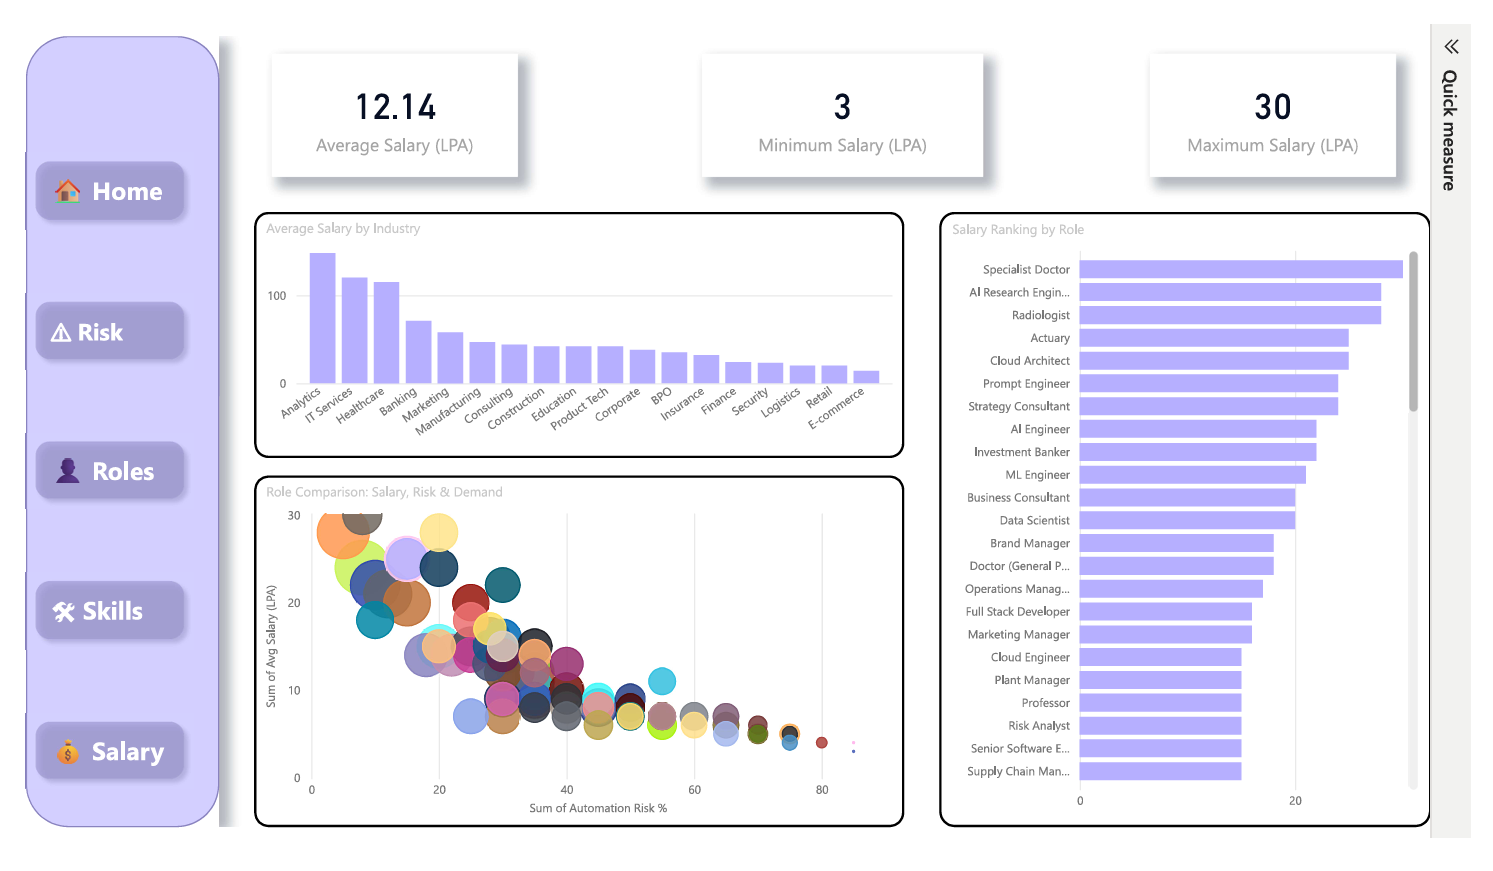

The dashboard page shown, as its layout file describes it:
{"tool":"powerbi","page":{"name":"Salary","canvas":[1280,720],"ordinal":4},"visuals":[{"type":"shape","box":[0,0,176,720],"z":0,"group":"g1"},{"type":"actionButton","box":[0,624,179.8,39.5],"z":0},{"type":"card","fields":{"Values":["Avg(Sheet1.Avg Salary (LPA))"]},"box":[224,16,224,112],"z":1000},{"type":"actionButton","box":[0,232.7,152.7,70.2],"z":1000,"group":"g1"},{"type":"card","fields":{"Values":["Max(Sheet1.Avg Salary (LPA))"]},"box":[1024,16,224,112],"z":2000},{"type":"actionButton","box":[0,105.4,152.7,70.2],"z":2000,"group":"g1"},{"type":"card","fields":{"Values":["Min(Sheet1.Avg Salary (LPA))"]},"box":[616,16,256,112],"z":3000},{"type":"actionButton","box":[0,360,152.7,70.2],"z":3000,"group":"g1"},{"type":"clusteredBarChart","title":"Salary Ranking by Role","fields":{"Category":["Sheet1.Job Role"],"Y":["Sum(Sheet1.Avg Salary (LPA))"]},"box":[832,160,448,560],"z":4000},{"type":"actionButton","box":[0,487.3,152.7,70.2],"z":4000,"group":"g1"},{"type":"scatterChart","title":"Role Comparison: Salary, Risk & Demand","fields":{"X":["Sum(Sheet1.Automation Risk %)"],"Y":["Sum(Sheet1.Avg Salary (LPA))"],"Series":["Sheet1.Job Role"],"Size":["Sum(Sheet1.Demand Growth %)"]},"box":[208,400,592,320],"z":5000},{"type":"actionButton","box":[0,614.6,152.7,70.2],"z":5000,"group":"g1"},{"type":"clusteredColumnChart","title":"Average Salary by Industry","fields":{"Category":["Sheet1.Industry"],"Y":["Sum(Sheet1.Avg Salary (LPA))"]},"box":[208,160,592,224],"z":6000},{"type":"group","id":"g1","title":"Sidebar","box":[0,0,176,720],"z":7000}]}

Visuals, with their boxes on the page's 1280x720 design canvas (x1, y1, x2, y2). These are canvas units, not pixel positions in the 1493x871 screenshot, which may show the page scaled, cropped or inside an application window:
shape: l=0, t=0, r=176, b=720
actionButton: l=0, t=624, r=180, b=664
card - Avg(Sheet1.Avg Salary (LPA)): l=224, t=16, r=448, b=128
actionButton: l=0, t=233, r=153, b=303
card - Max(Sheet1.Avg Salary (LPA)): l=1024, t=16, r=1248, b=128
actionButton: l=0, t=105, r=153, b=176
card - Min(Sheet1.Avg Salary (LPA)): l=616, t=16, r=872, b=128
actionButton: l=0, t=360, r=153, b=430
"Salary Ranking by Role" clusteredBarChart: l=832, t=160, r=1280, b=720
actionButton: l=0, t=487, r=153, b=558
"Role Comparison: Salary, Risk & Demand" scatterChart: l=208, t=400, r=800, b=720
actionButton: l=0, t=615, r=153, b=685
"Average Salary by Industry" clusteredColumnChart: l=208, t=160, r=800, b=384
"Sidebar" group: l=0, t=0, r=176, b=720
